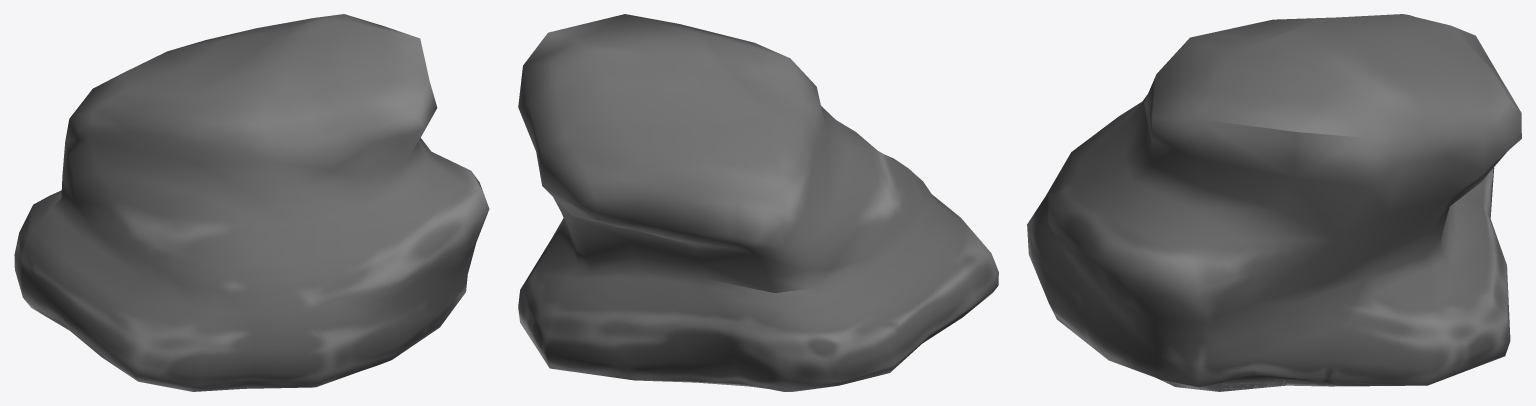
The model's file is rock_5.fbx.
3 renders of one model, left to right at view 1: azimuth 30°, elevation 25°; view 2: azimuth 150°, elevation 25°; view 3: azimuth 270°, elevation 25°, orthographic. The views are drawn at different scales.
Visible parts, largest first — view 1: rock_5; view 2: rock_5; view 3: rock_5.
Part boxes in pixels (x1,y1,x2,y2): rock_5: (14, 14, 489, 391); rock_5: (518, 14, 998, 391); rock_5: (1027, 14, 1521, 391).
Bounding box in the file's own units: 186 × 116 × 173.
